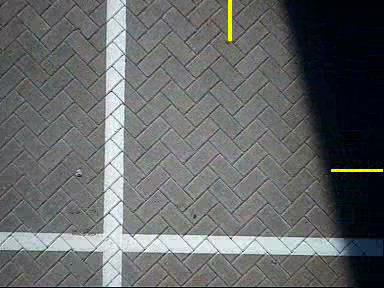groundmarker_2: (141, 23, 201, 64), (141, 165, 200, 206)
